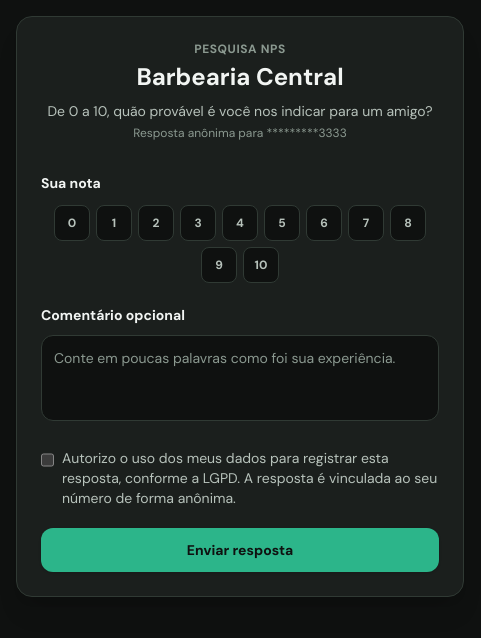
PublicNpsPage › valida a nota obrigatória antes de enviar
Expected: the heading "Barbearia Central" is shown, [136, 61, 344, 92]
Click the checkbox.
click(48, 460)  # box [41, 452, 54, 468]
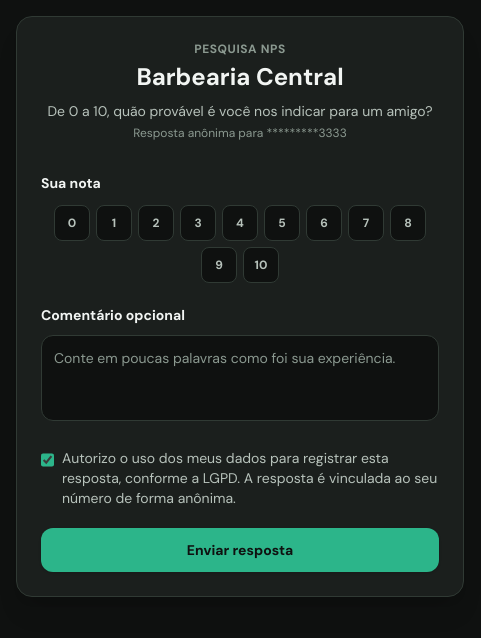
Click the button "Enviar resposta".
click(240, 550)  # box [41, 528, 439, 572]
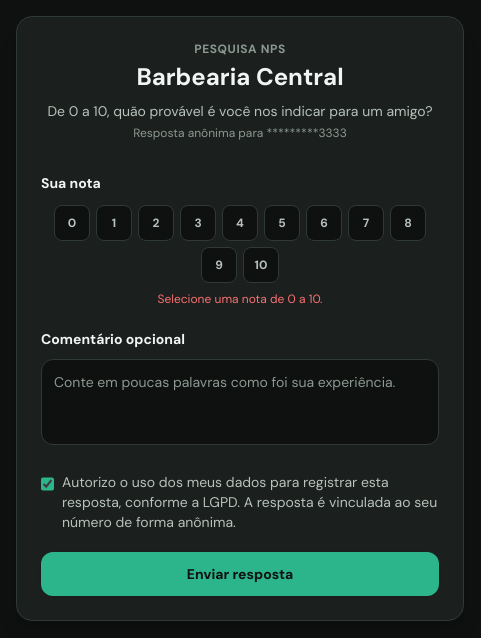
Result: the text "Selecione uma nota de 0 a 10." is shown at [158, 291, 322, 307]
